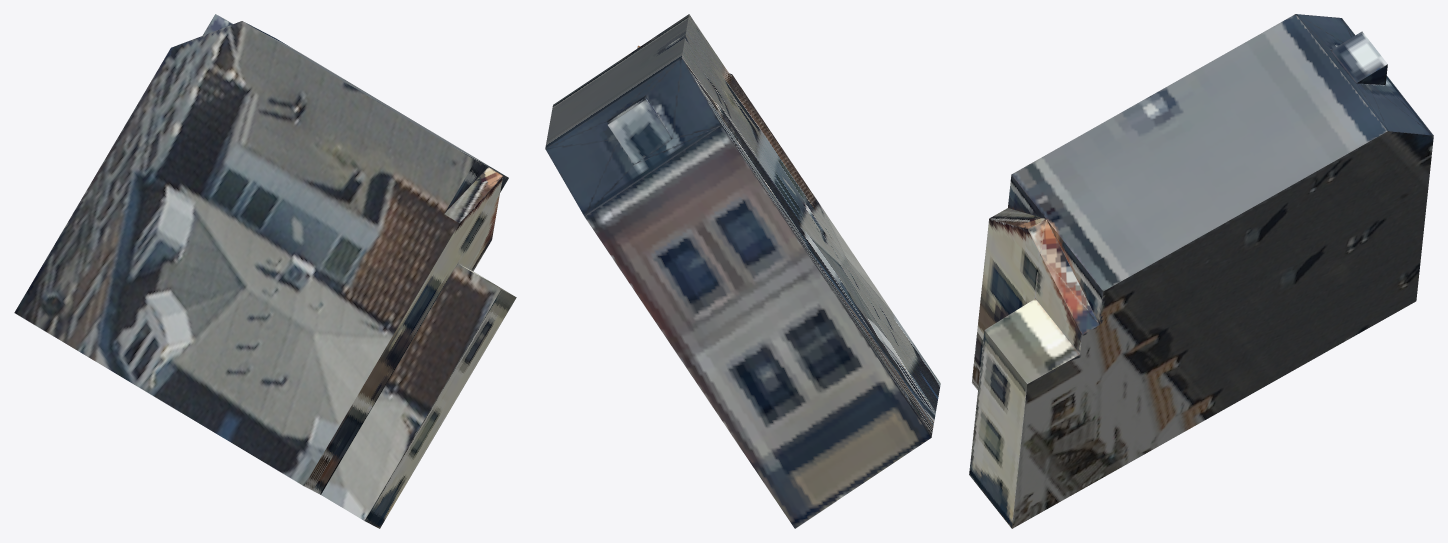
3 renders of one model, left to right at view 1: azimuth 30°, elevation 25°; view 2: azimuth 150°, elevation 25°; view 3: azimuth 270°, elevation 25°, orthographic. The views are drawn at different scales.
Visible parts, largest first — view 1: BAG_0599100000650086 (×3); view 2: BAG_0599100000650086 (×5); view 3: BAG_0599100000650086 (×5).
Part boxes in pixels (<box>): BAG_0599100000650086 (×3): <box>14,14,516,528</box>; BAG_0599100000650086 (×5): <box>545,14,940,528</box>; BAG_0599100000650086 (×5): <box>969,14,1433,528</box>.
Bounding box in the file's own units: 14.47 × 14.63 × 12.22.
Materials: 1 (1 with a texture image).
